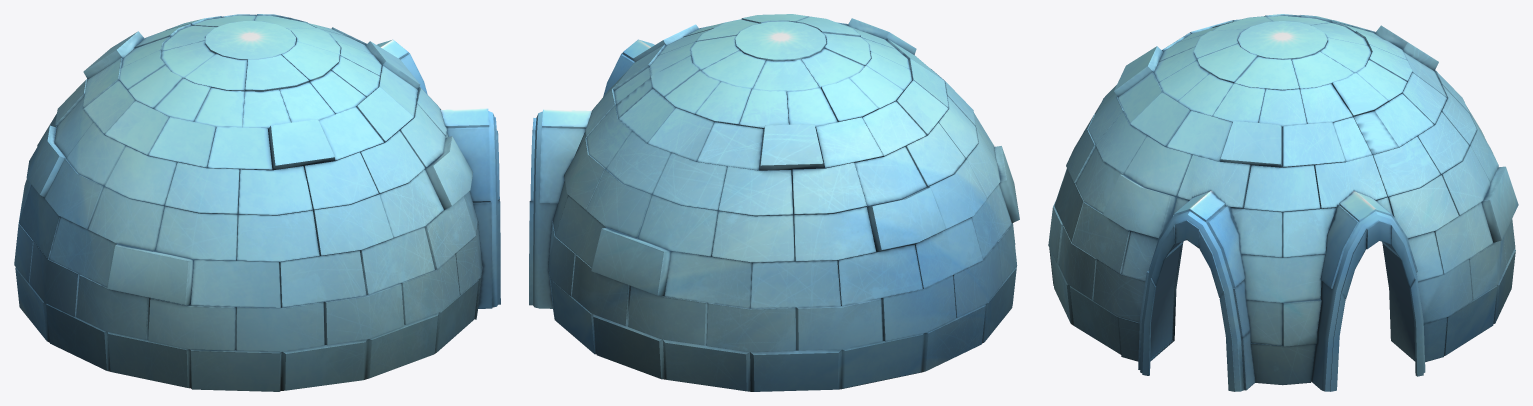
Rendered from igloo.fbx.
The picture shows the model from 3 angles, left to right: view 1: azimuth 30°, elevation 25°; view 2: azimuth 150°, elevation 25°; view 3: azimuth 270°, elevation 25°; orthographic projection. The views are drawn at different scales.
Parts seen in each view (by area): view 1: igloo1; view 2: igloo1; view 3: igloo1.
Part boxes in pixels (x1,y1,x2,y2): igloo1: (14,14,500,391); igloo1: (529,14,1019,391); igloo1: (1048,14,1518,391).
Size of the model in its own units: 27.59 by 16.17 by 27.14.
